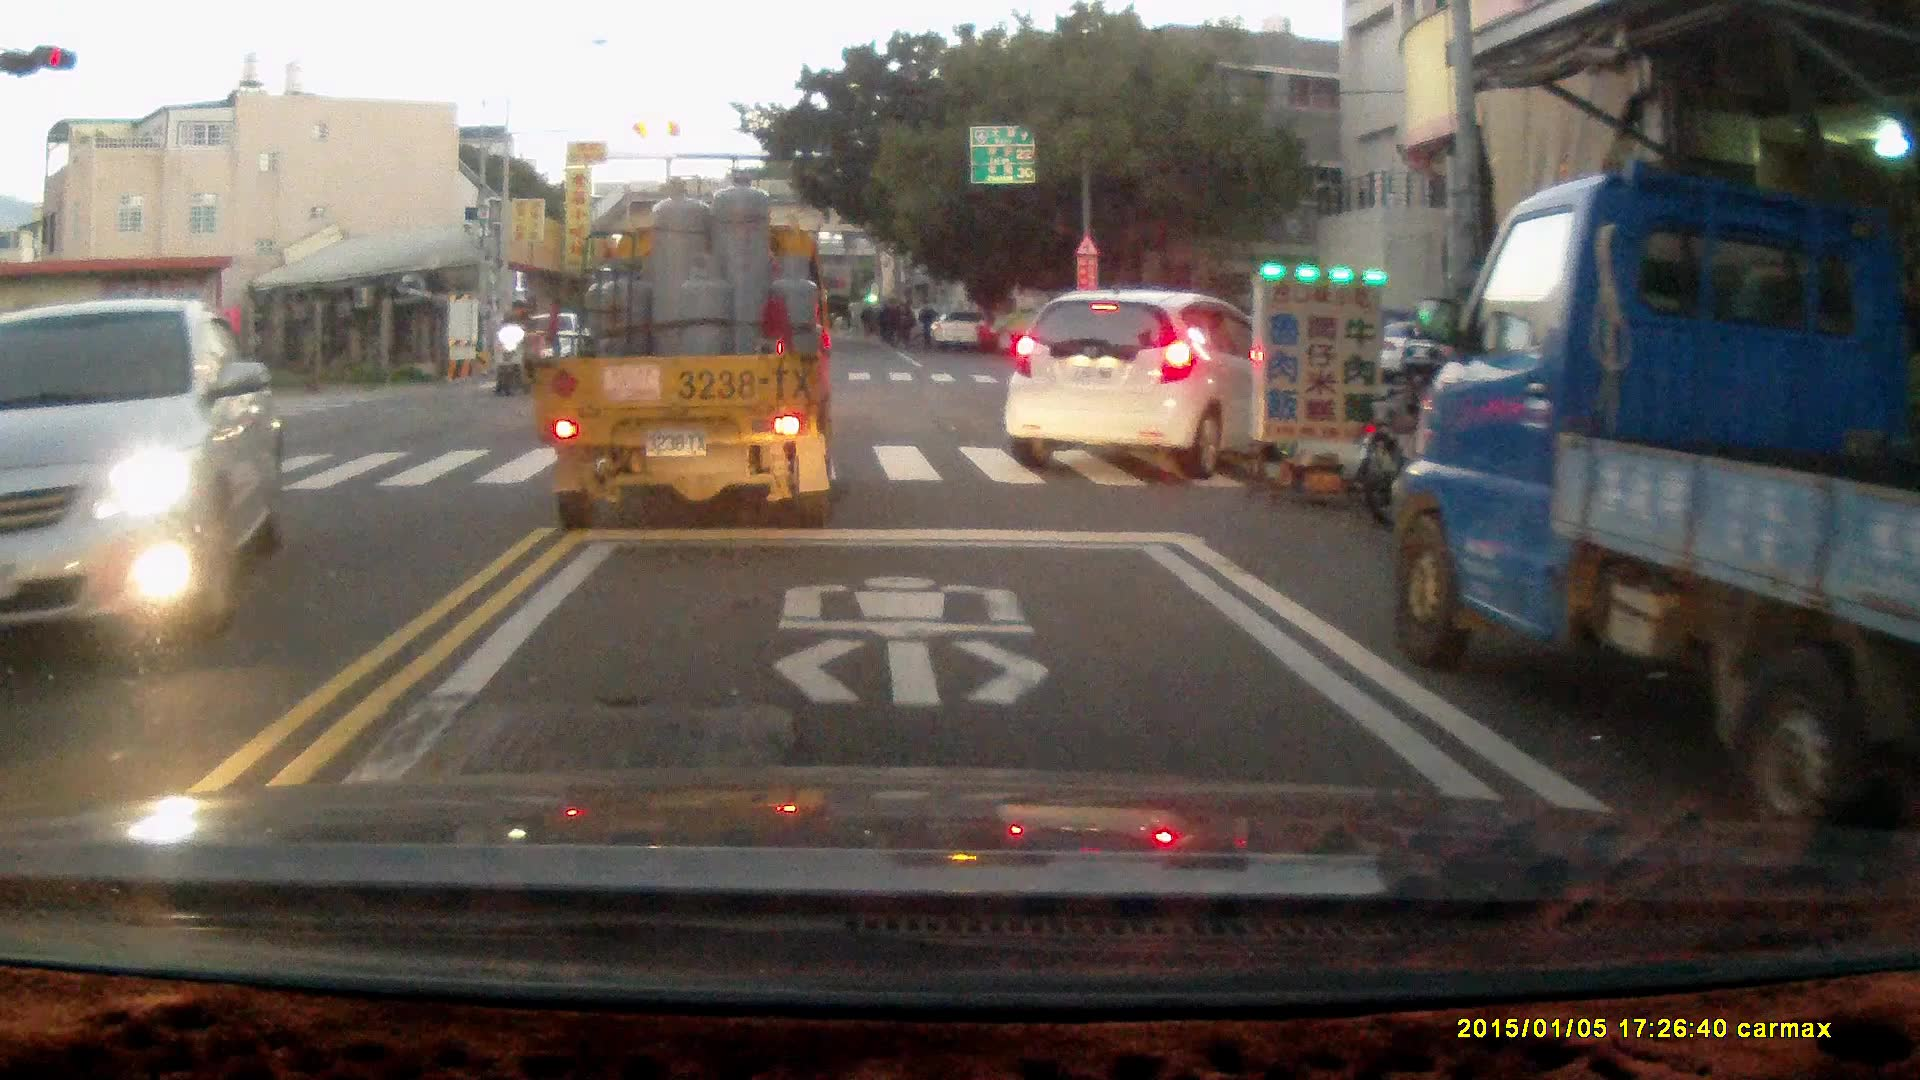rider: (491, 298, 542, 396)
vehicle: (1381, 176, 1920, 815), (526, 170, 837, 534), (1, 297, 281, 651), (1002, 287, 1275, 470), (507, 312, 588, 379)
